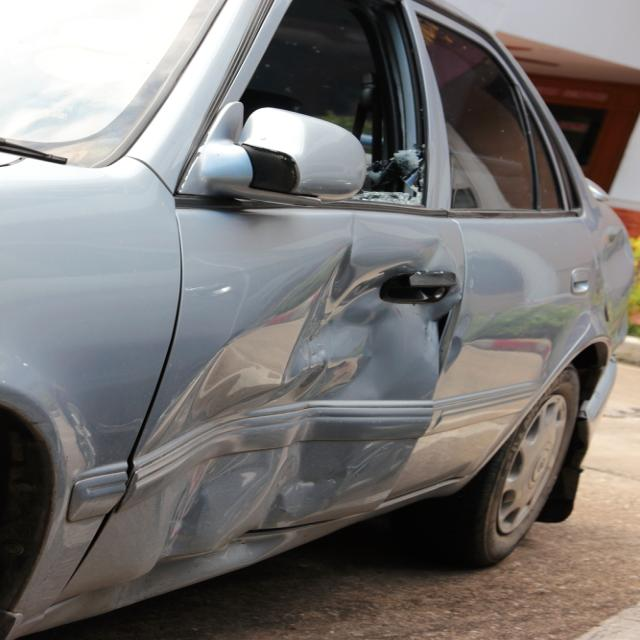Cabossage: (127, 246, 455, 570), (587, 234, 640, 291)
